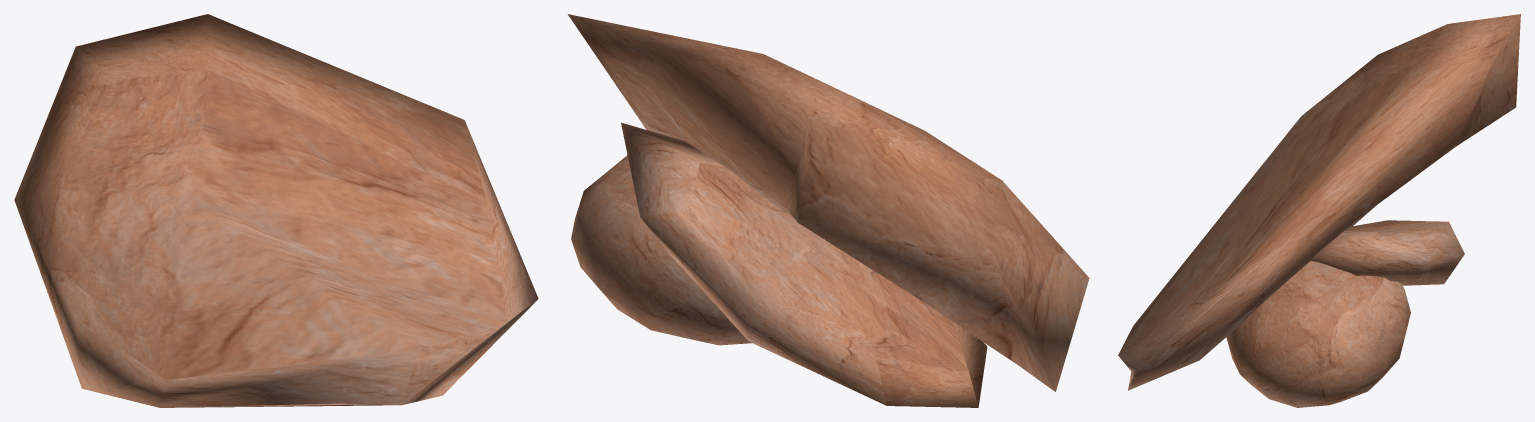
The model's file is DesertRocks.fbx.
3 renders of one model, left to right at view 1: azimuth 30°, elevation 25°; view 2: azimuth 150°, elevation 25°; view 3: azimuth 270°, elevation 25°, orthographic. The views are drawn at different scales.
Visible parts, largest first — view 1: pCube3; view 2: pCube3, pCube2, pCube4; view 3: pCube3, pCube4, pCube2.
Boxes of the visible parts, left/top/right/bottom form: pCube3: left=14, top=14, right=538, bottom=407; pCube3: left=567, top=14, right=1089, bottom=391; pCube2: left=621, top=122, right=987, bottom=407; pCube4: left=571, top=155, right=752, bottom=345; pCube3: left=1118, top=14, right=1520, bottom=390; pCube4: left=1226, top=261, right=1410, bottom=407; pCube2: left=1311, top=220, right=1464, bottom=285.
Size of the model in its own units: 13.94 by 9.54 by 11.62.
Materials: 3 (3 with a texture image).
